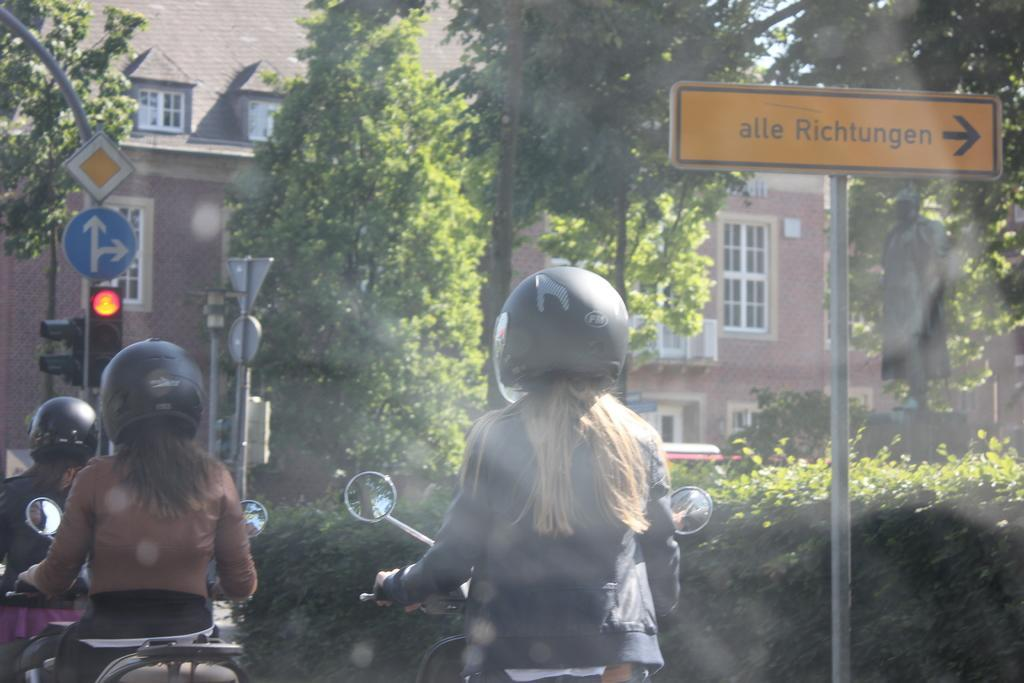helmet: (490, 265, 631, 406), (99, 336, 207, 444), (23, 394, 102, 468)
